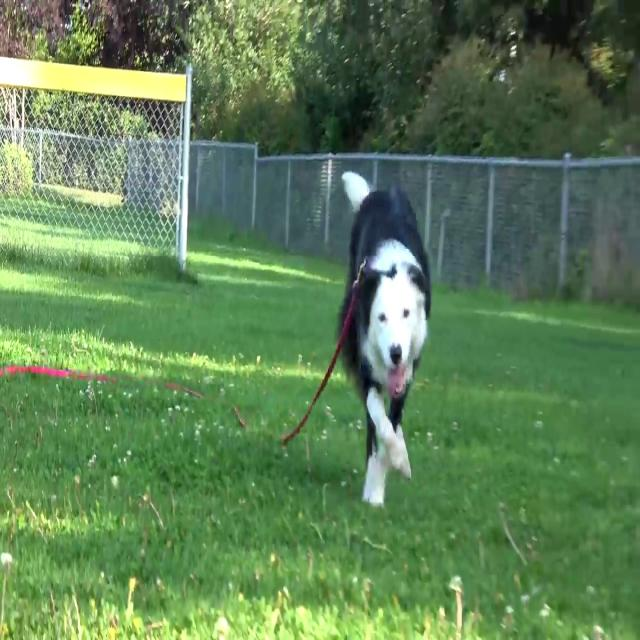Dog: (335, 170, 433, 509)
